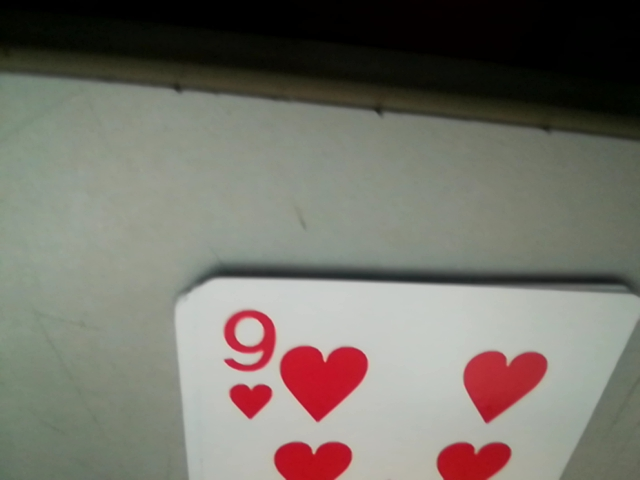hx 9: (204, 309, 284, 427)
